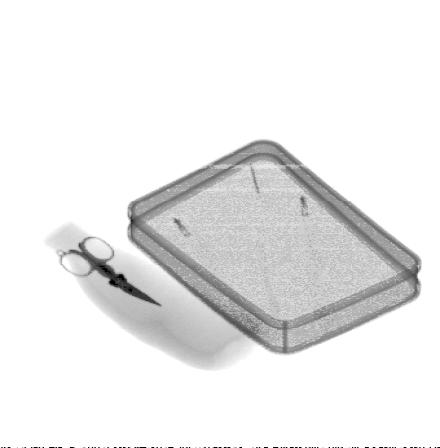Scissors: (61, 235, 163, 306)
